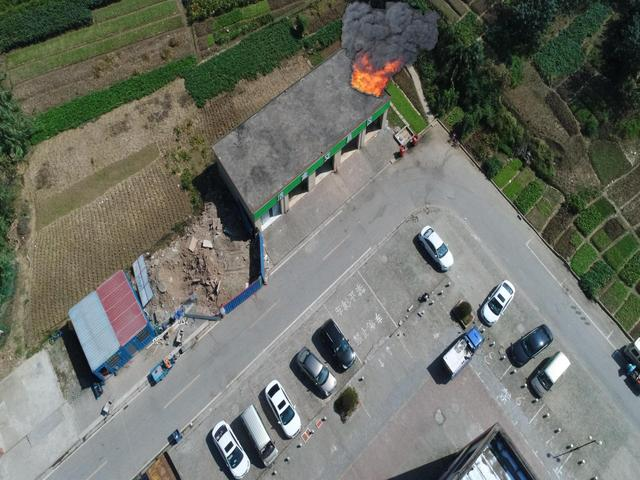fire: (338, 1, 441, 97)
